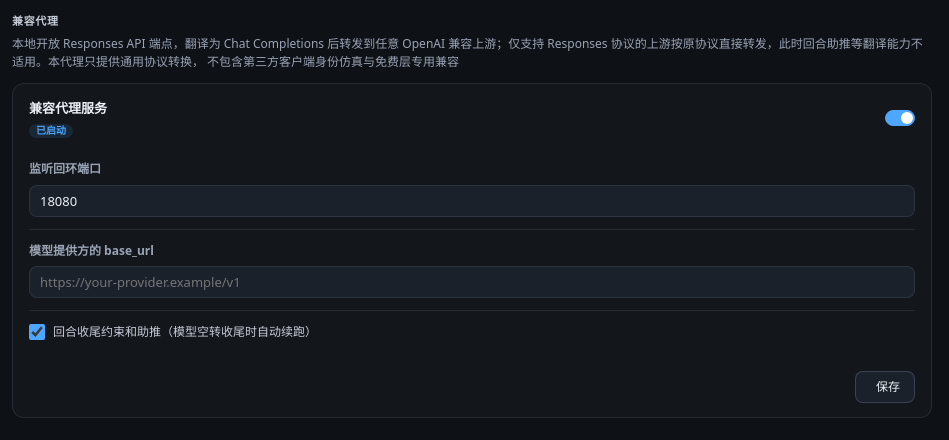
Test: CompatProxySection › 本地 provider 的 base_url 提示跟随上游地址的路径
Type "https://api.example.com/v1" into the field with class "compat-proxy-url-input" at (472, 282), box [29,266,915,298]
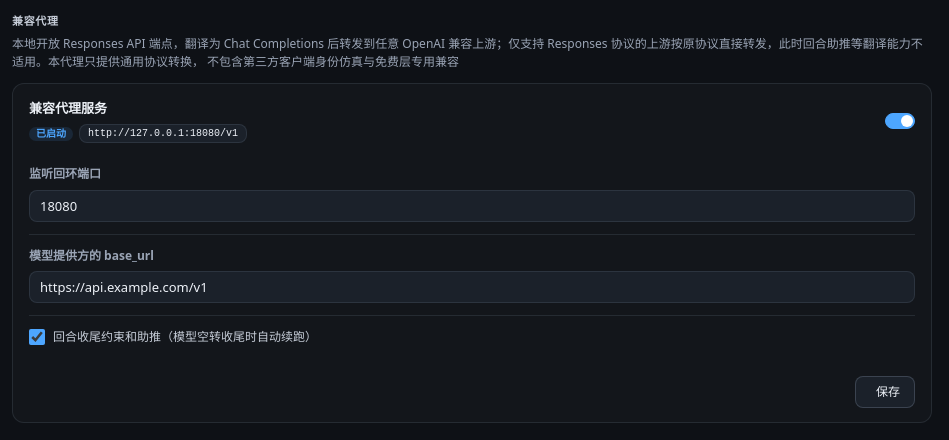
Expected: the button with class "compat-proxy-base-url-capsule" reads "http://127.0.0.1:18080/v1", [79,124,247,143]
Replace the text in the field with class "compat-proxy-url-input" with "https://api.deepseek.com/" at (472, 287), box [29,271,915,303]
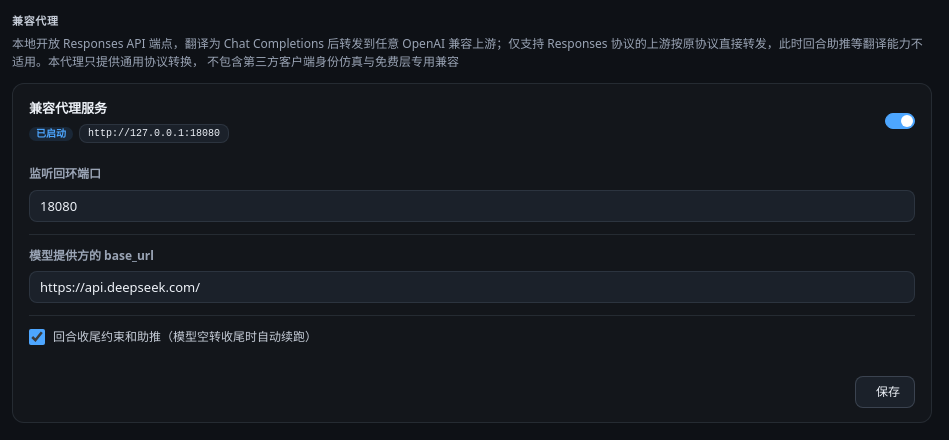
Expected: the element with class "compat-proxy-base-url-capsule" does not show "http://127.0.0.1:18080/zen"
Expected: the button with class "compat-proxy-base-url-capsule" reads "http://127.0.0.1:18080", [79,124,229,143]
Replace the text in the field with class "compat-proxy-url-input" with "https://custom.example.com/zen/v2/" at (472, 287), box [29,271,915,303]
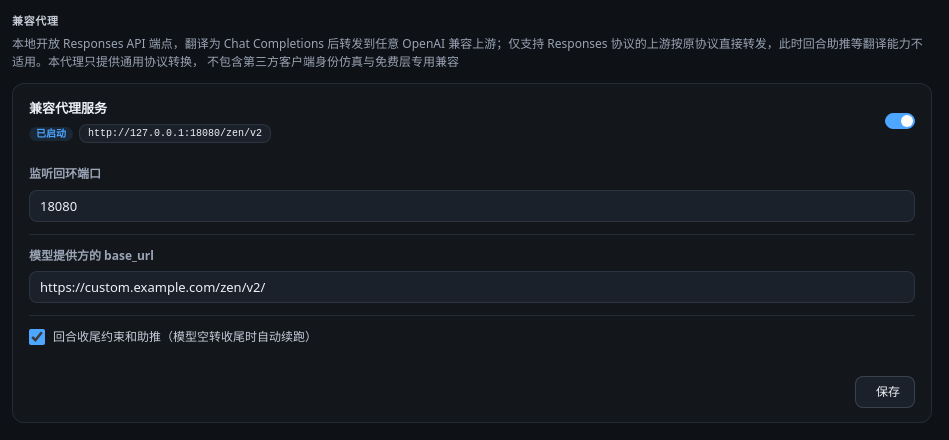
Expected: the button with class "compat-proxy-base-url-capsule" reads "http://127.0.0.1:18080/zen/v2", [79,124,271,143]
